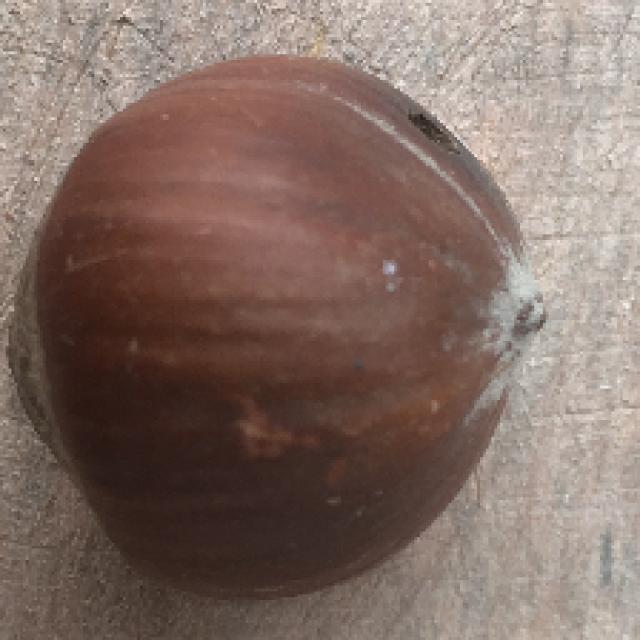damagedHazelnut: (18, 55, 542, 596)
